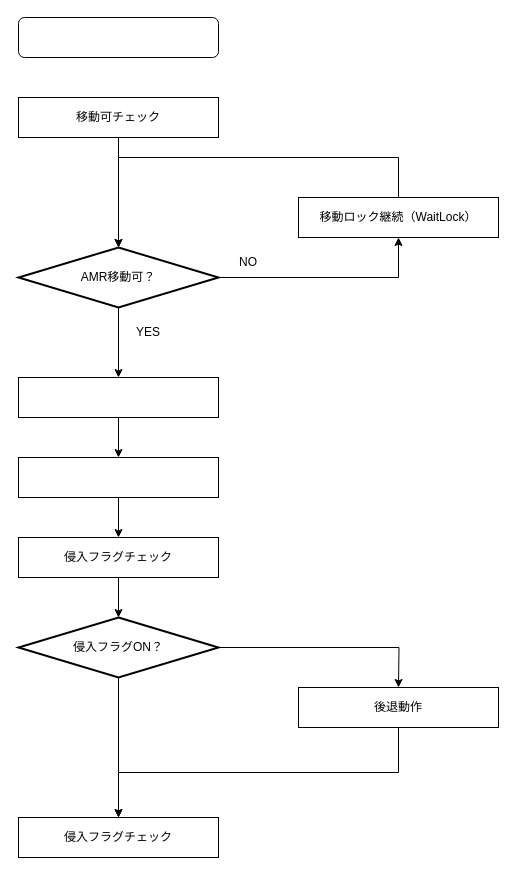
Some shapes in this 516 by 875 pixel diagram are drawn without their labels. The shapes that lost their labels are listed below. From the top down, each one's centre as x and y in pixels, then its label:
[118,37]: AMR移動要求
[118,397]: 移動ロック解除（WaitCancel）
[118,477]: 移動中フラグセット
